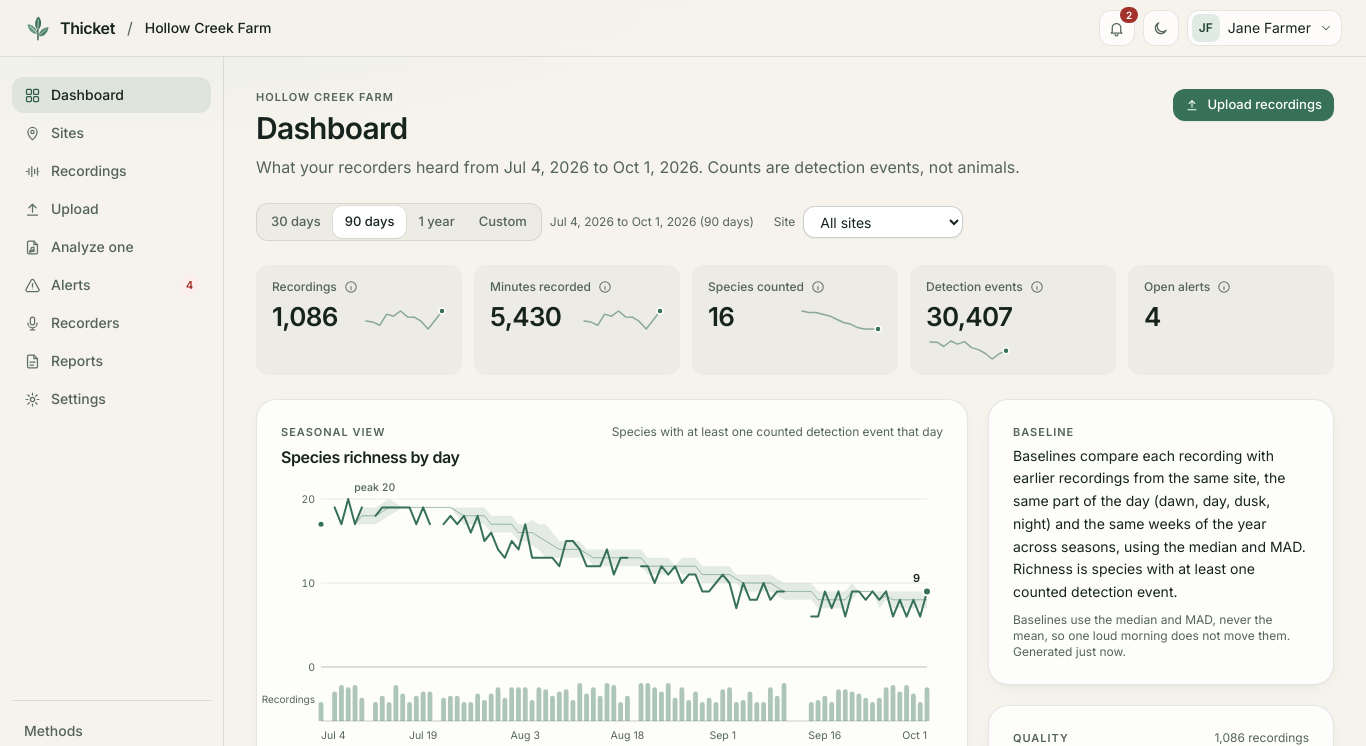
Test: alerts › clears the unread badge when the inbox is opened
Expected: the text with test id "unread-badge" reads "2", [1126,9,1132,21]
Click the link with test id "notification-bell": click(1117, 28) [1099,10,1135,46]
(page scrolled)
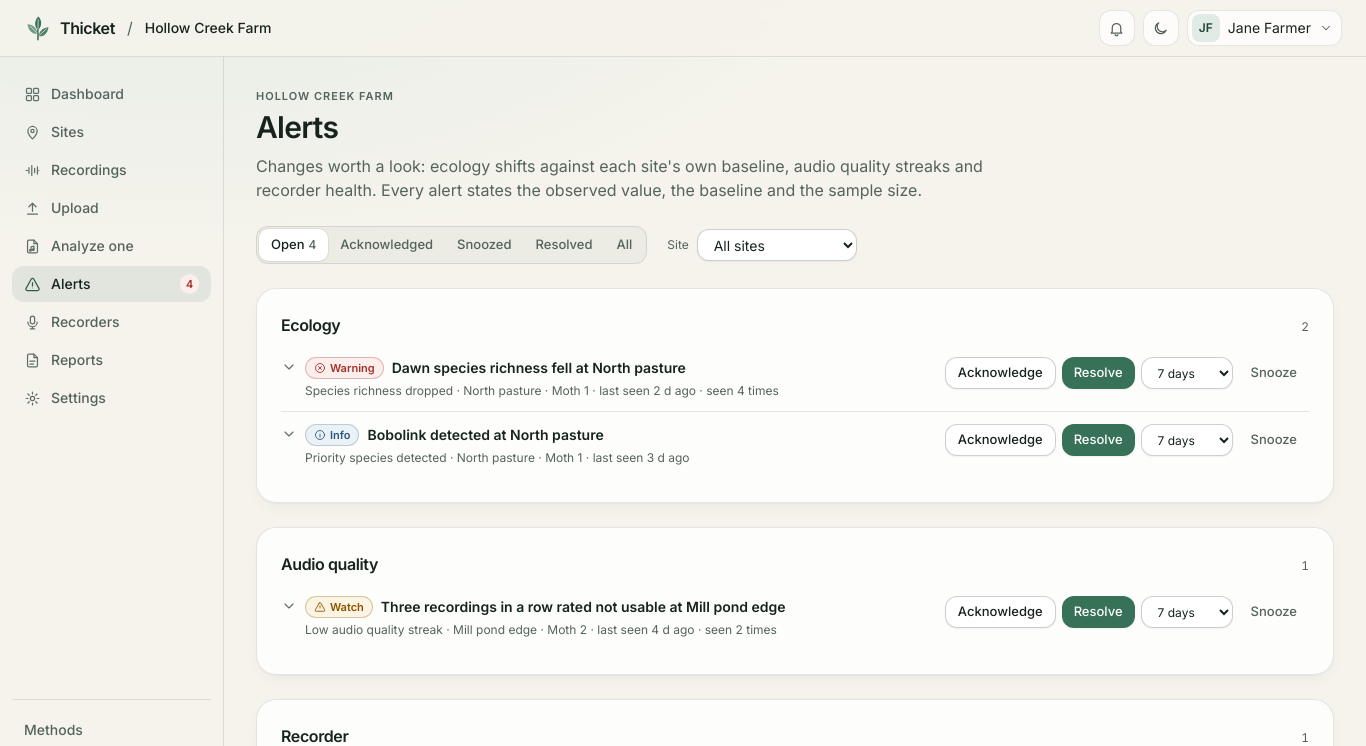
Expected: the list with test id "alerts-ecology" is shown, [281,345,1309,478]
Expected: the text with test id "unread-badge" is gone
